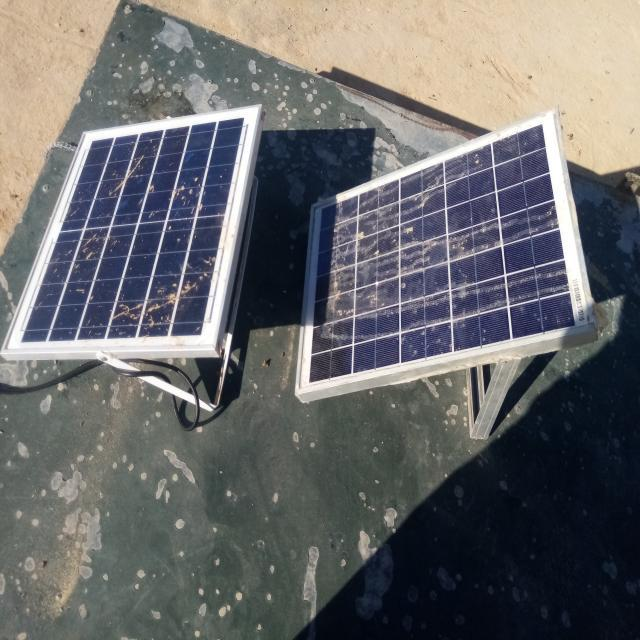faulty: (298, 110, 594, 390), (1, 108, 260, 354)
